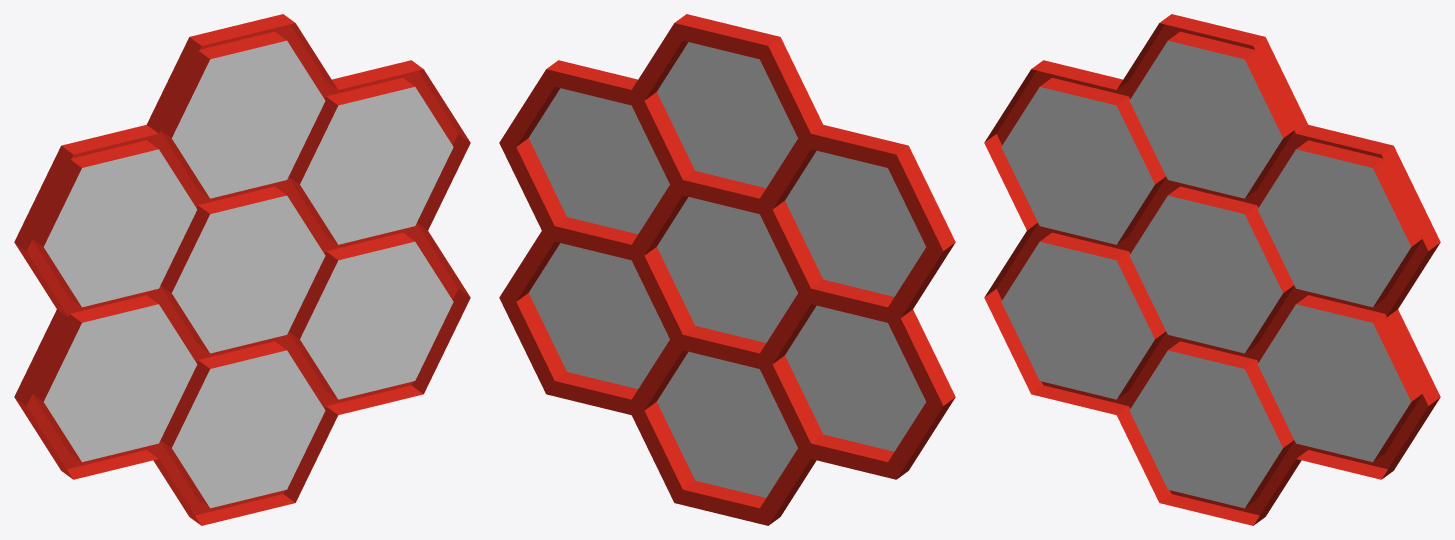
File: HoneyComb.fbx
3 views of the same model, side by side, from view 1: azimuth 30°, elevation 25°; view 2: azimuth 150°, elevation 25°; view 3: azimuth 330°, elevation 25° (orthographic).
Visible parts, largest first — view 1: HoneyComb; view 2: HoneyComb; view 3: HoneyComb.
Part boxes in pixels (bbox=[...]): HoneyComb: bbox=[14, 14, 470, 525]; HoneyComb: bbox=[499, 14, 955, 525]; HoneyComb: bbox=[984, 14, 1440, 525].
Size of the model in its own units: 8 by 8.26 by 0.3846.
